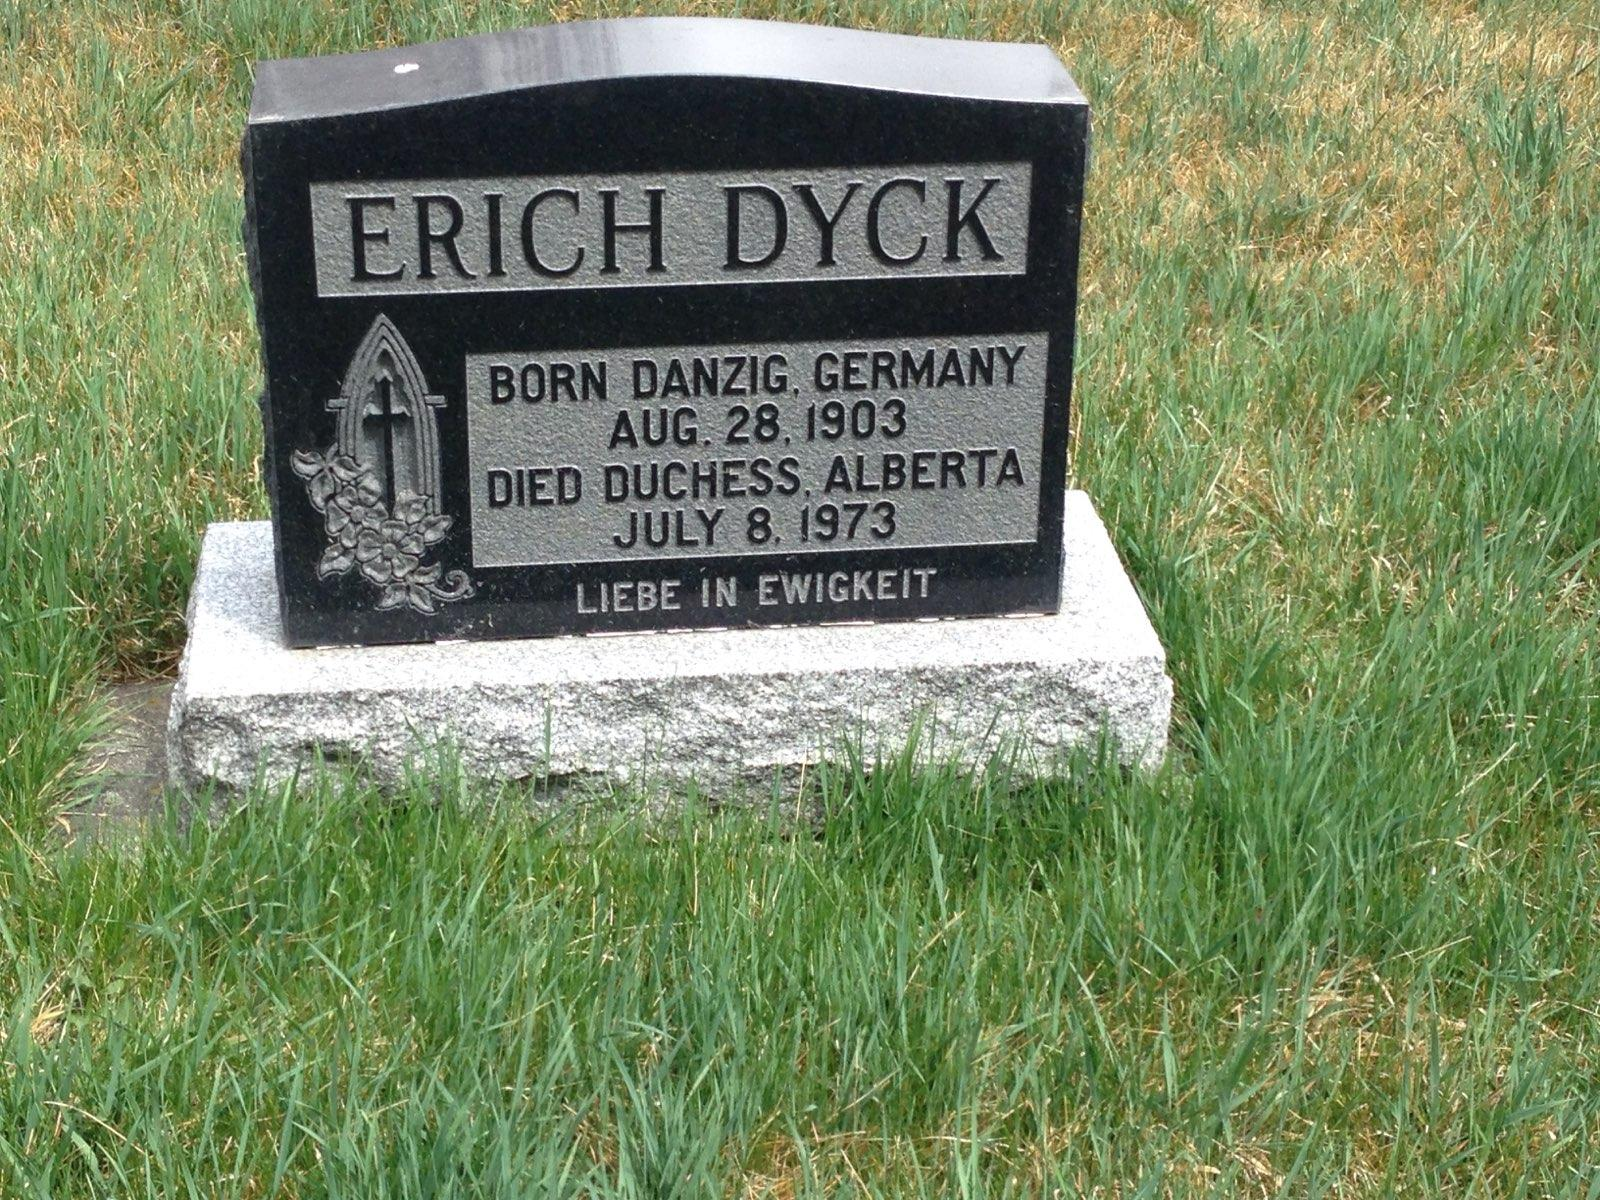upright: (157, 9, 1204, 807)
